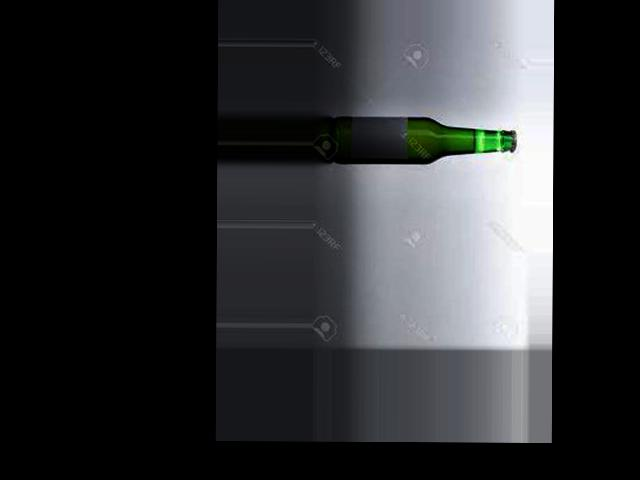beer: (331, 116, 516, 165)
